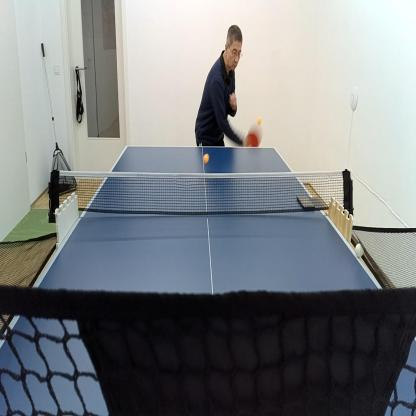Ball: (355, 244, 363, 259), (204, 154, 209, 162), (257, 117, 261, 125)
